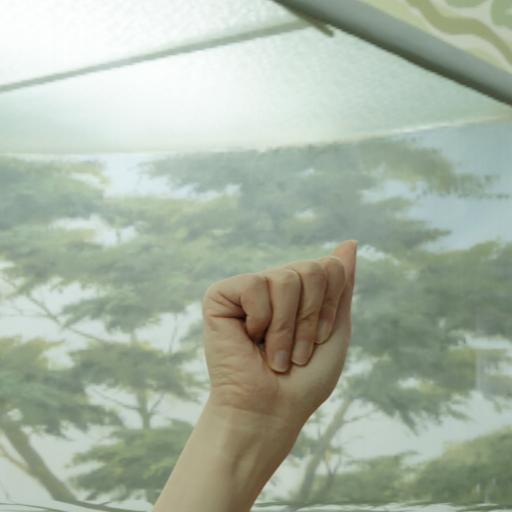A: (192, 232, 368, 428)
